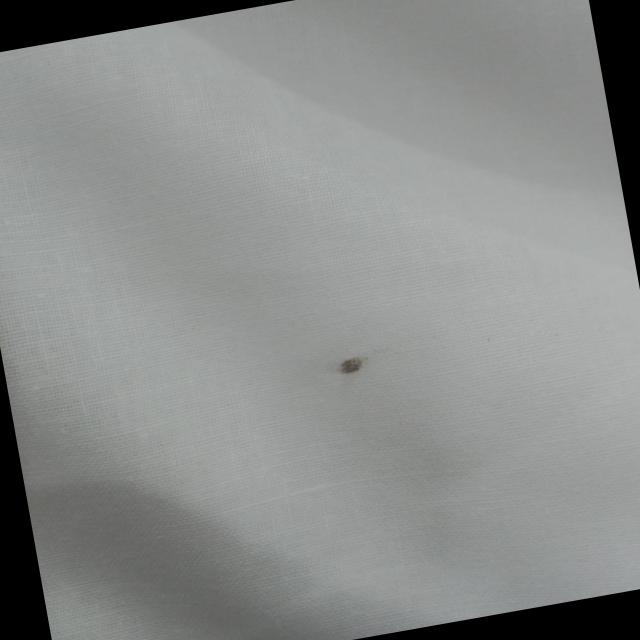stain: (322, 342, 381, 387)
